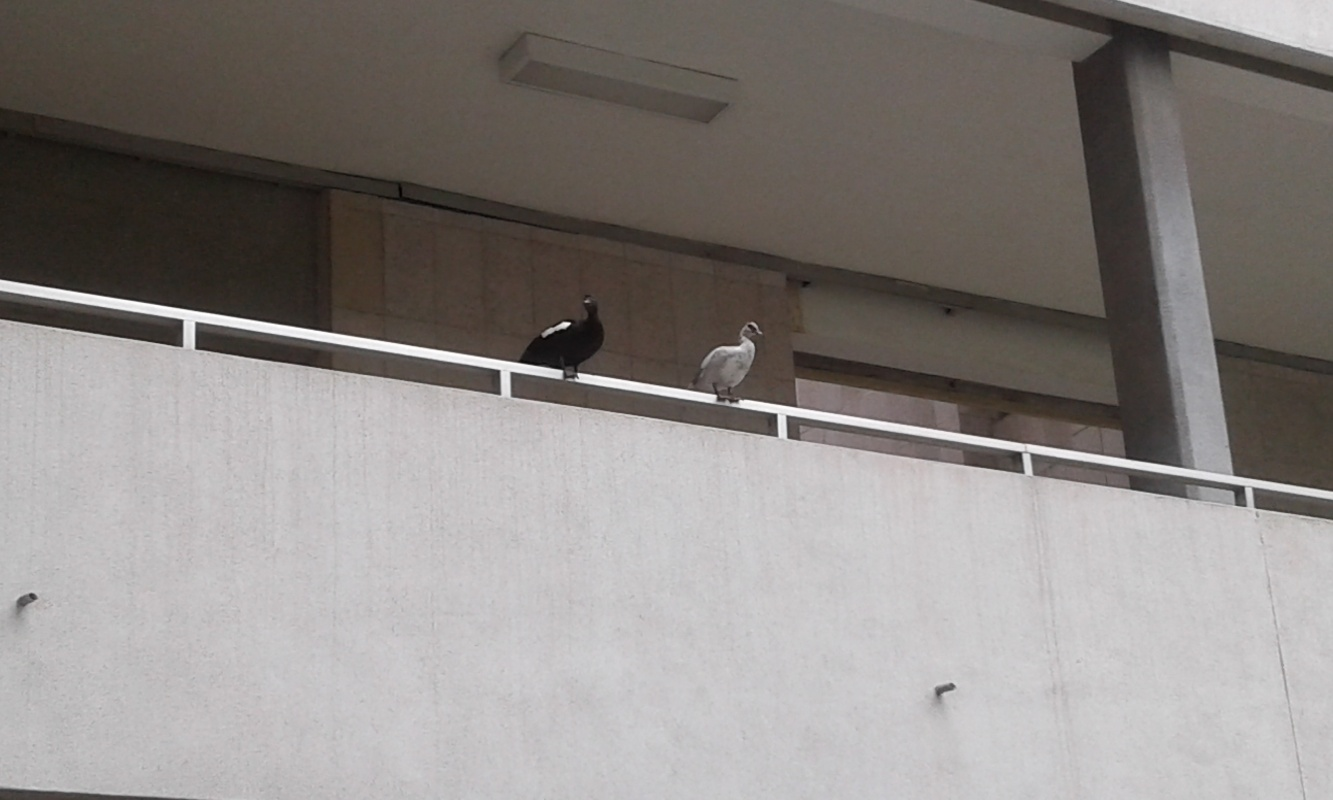pato: (524, 286, 601, 375), (701, 317, 764, 403)
